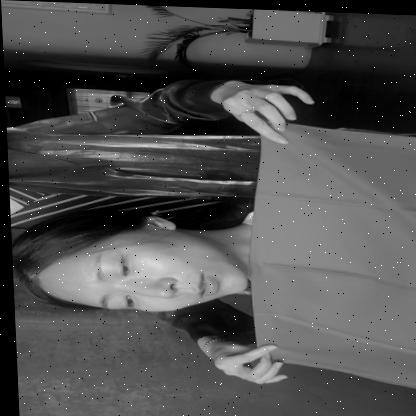streamer: (4, 123, 416, 389), (2, 70, 323, 383)
